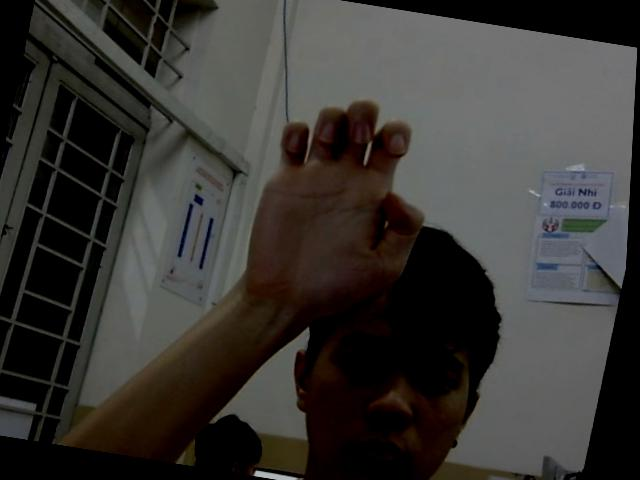E: (236, 82, 443, 316)
